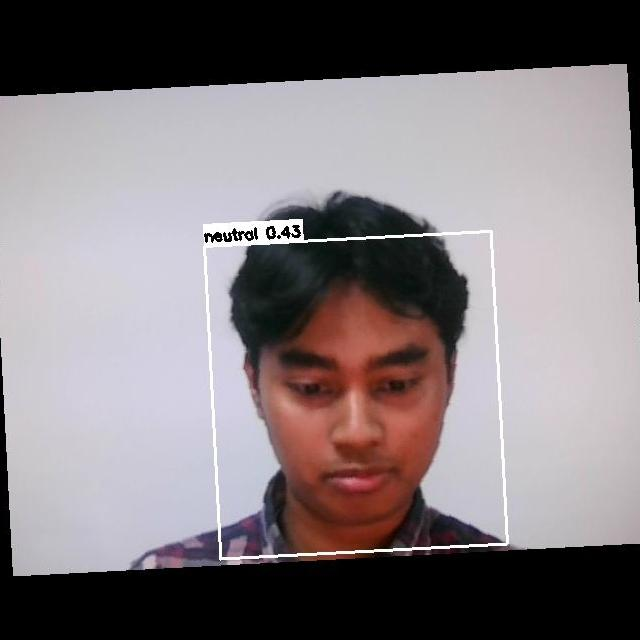Natural: (261, 341, 460, 505)
